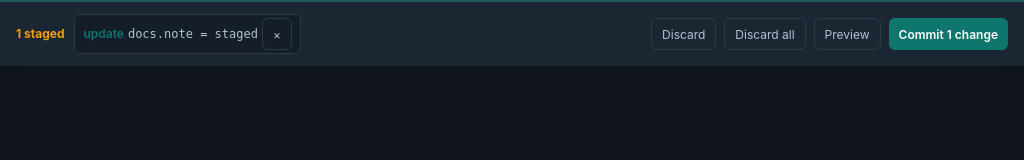
CommitBar — staged atomic commits (S02) › preview shows the dry-run counts and applies nothing
The image size is (1024, 160).
What coordinates should you click on to do the following:
click the button titled "Dry-run this batch"
I would click on:
 (847, 34)
Its box is [814,18,880,50].
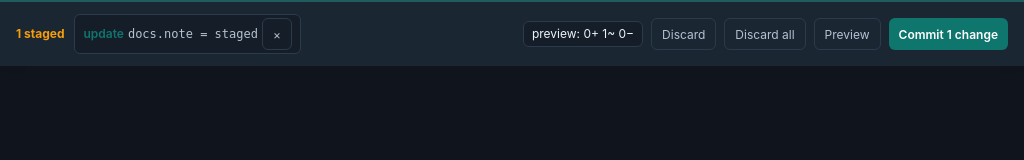
Expected: the heading "preview: 0+ 1~ 0−" is shown, [523,21,643,47]
